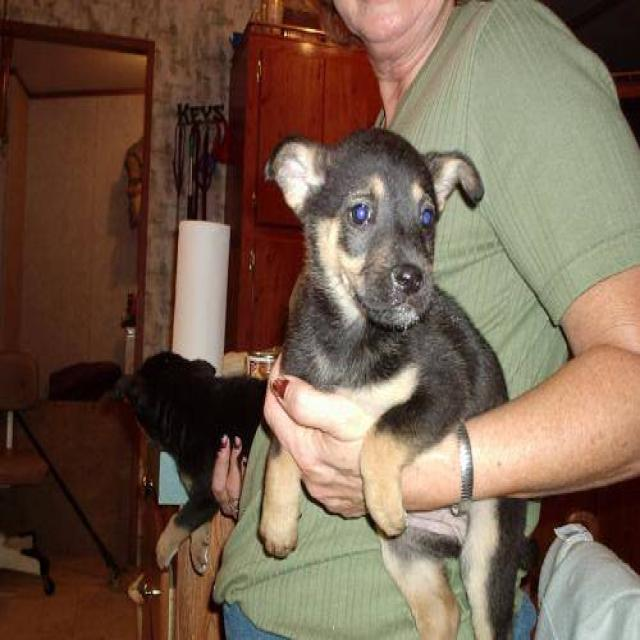Dog: (267, 120, 489, 332)
